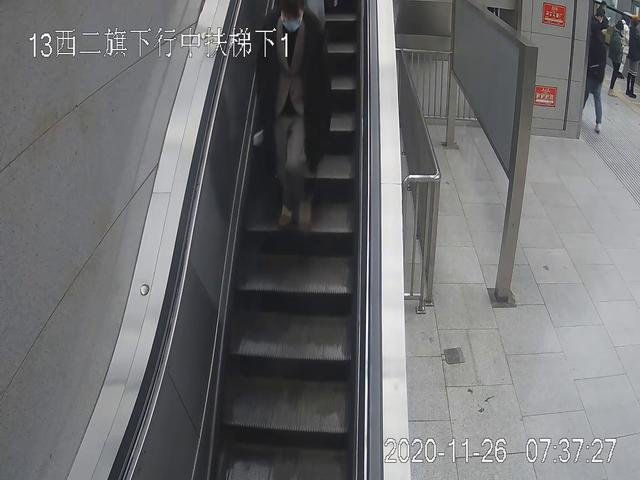person: (251, 1, 332, 237), (585, 21, 610, 134), (621, 17, 639, 97), (609, 20, 624, 92)
